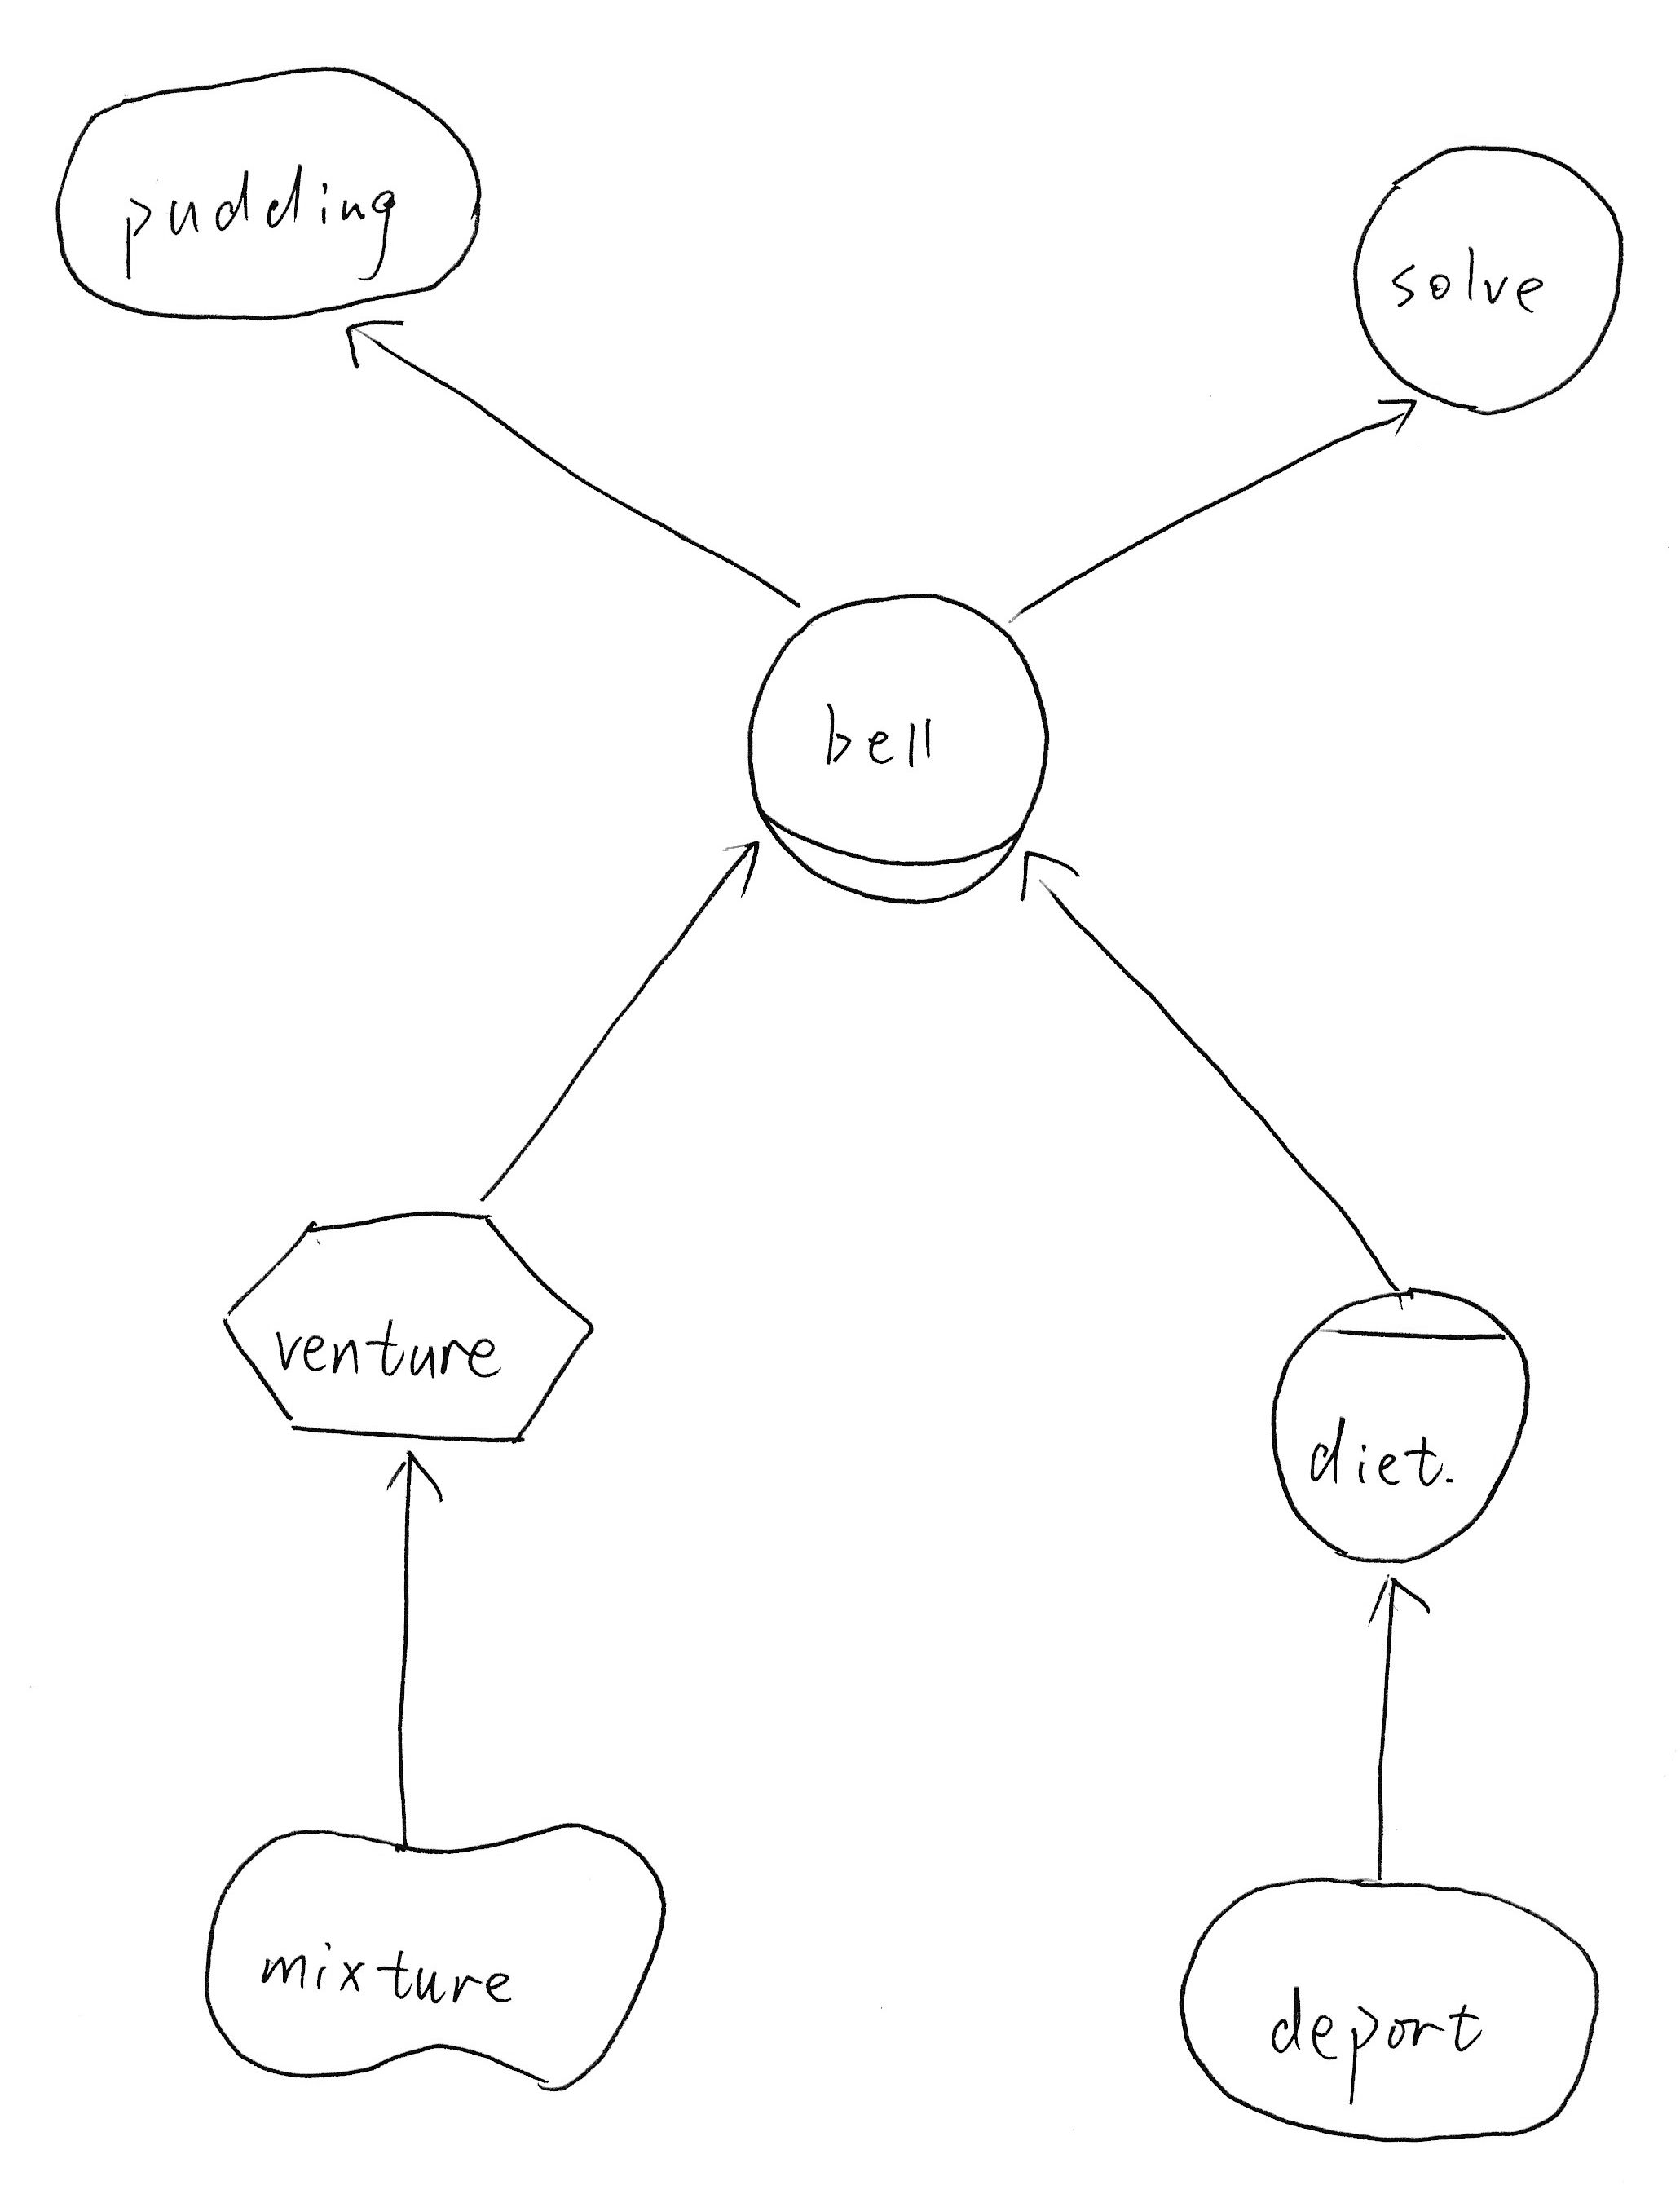actor: (1329, 124, 1638, 429)
agent: (1251, 1271, 1551, 1594)
arrow: (1006, 838, 1092, 921), (704, 831, 775, 932), (1346, 1567, 1442, 1638), (330, 307, 415, 385), (372, 1442, 452, 1514), (1354, 387, 1433, 455)
goal: (37, 44, 514, 335), (1161, 1858, 1615, 2157)
quality: (189, 1802, 692, 2113)
role: (736, 572, 1062, 920)
task: (206, 1188, 611, 1472)
